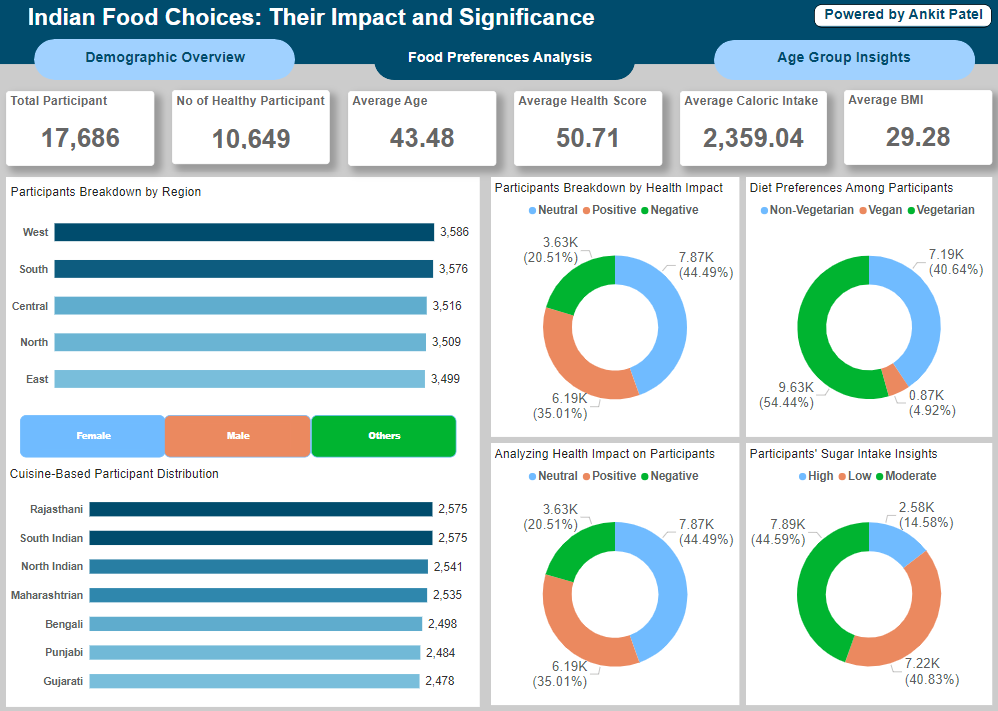

The page's visual inventory and layout, read from the dashboard file:
{"tool":"powerbi","page":{"name":"Food Preferences Analysis","canvas":[1400,1000],"ordinal":1},"visuals":[{"type":"shape","box":[12.2,248.6,658.1,736.5],"z":0},{"type":"shape","box":[0,0,1400,91.7],"z":1000},{"type":"actionButton","title":"Indian Food Choices: Their Impact and Significance","box":[0,8.7,873,48],"z":2000},{"type":"shape","box":[51.6,56.8,362.6,56.8],"z":3000},{"type":"actionButton","title":"Demographic Overview","box":[109.7,71,247.7,27.1],"z":4000},{"type":"card","title":"Total Participant ","fields":{"Values":["Meausres Table.Total People"]},"box":[13.1,128.8,206.2,103.7],"z":5000},{"type":"card","title":"Average Age","fields":{"Values":["Meausres Table.Average Age"]},"box":[487.4,128.8,206.2,103.7],"z":6000},{"type":"card","title":"No of Healthy Participant ","fields":{"Values":["Meausres Table.Total Healthy Participant"]},"box":[243.3,128.4,219.4,103],"z":7000},{"type":"card","title":"Average Health Score","fields":{"Values":["Meausres Table.Average Health Score"]},"box":[718,128.8,206.2,103.7],"z":8000},{"type":"card","title":"Average BMI","fields":{"Values":["Meausres Table.Average BMI"]},"box":[1177,128.4,206,104.4],"z":9000},{"type":"card","title":"Average Caloric Intake","fields":{"Values":["Meausres Table.Average Caloric Intake"]},"box":[948.6,128.8,204.1,103.7],"z":10000},{"type":"barChart","title":"Participants Breakdown by Region","fields":{"Category":["food_impact_india.Region"],"Y":["Meausres Table.Total People"]},"box":[13.5,255.4,647.3,313.5],"z":11000},{"type":"barChart","title":"Cuisine-Based Participant Distribution","fields":{"Category":["food_impact_india.Primary_Cuisine"],"Y":["Meausres Table.Total People"]},"box":[13.1,647.9,647.9,333.8],"z":12000},{"type":"slicer","fields":{"Values":["food_impact_india.Gender"]},"box":[31.4,579.8,201.6,58.9],"z":13000},{"type":"slicer","fields":{"Values":["food_impact_india.Gender"]},"box":[231.7,579.8,204.2,58.9],"z":14000},{"type":"slicer","fields":{"Values":["food_impact_india.Gender"]},"box":[435.9,579.8,201.6,58.9],"z":15000},{"type":"donutChart","title":"Participants Breakdown by Health Impact","fields":{"Category":["food_impact_india.Health_Impact"],"Y":["Meausres Table.Total People"]},"box":[686.5,248.6,344.6,360.8],"z":16000},{"type":"donutChart","title":"Participants'' Sugar Intake Insights","fields":{"Category":["food_impact_india.Sugar_Intake"],"Y":["Meausres Table.Total People"]},"box":[1040.5,617.6,341.9,363.5],"z":16001},{"type":"donutChart","title":"Analyzing Health Impact on Participants","fields":{"Category":["food_impact_india.Health_Impact"],"Y":["Meausres Table.Total People"]},"box":[686.5,617.6,344.6,363.5],"z":16002},{"type":"donutChart","title":"Diet Preferences Among Participants","fields":{"Category":["food_impact_india.Diet_Type"],"Y":["Meausres Table.Total People"]},"box":[1040.5,248.6,341.9,360.8],"z":16003},{"type":"shape","box":[523.5,58.6,362.9,55.7],"z":16004},{"type":"shape","box":[995.7,58.6,362.9,55.7],"z":16005},{"type":"actionButton","title":"Food Preferences Analysis","box":[568.6,71.4,261.4,27.1],"z":16006},{"type":"actionButton","title":"Age Group Insights","box":[1045.7,71.4,261.4,27.1],"z":16007},{"type":"actionButton","title":"Powered by Ankit Patel","box":[1134.3,8.6,247.1,32.9],"z":16008}]}

Visuals, with their boxes in screenshot pixels (x1, y1, x2, y2), scaled from the page's 1400x1000 canvas onto the 998x711 screenshot:
shape: bbox=(9, 177, 478, 700)
shape: bbox=(0, 0, 997, 65)
"Indian Food Choices: Their Impact and Significance" actionButton: bbox=(0, 6, 622, 40)
shape: bbox=(37, 40, 295, 81)
"Demographic Overview" actionButton: bbox=(78, 50, 255, 70)
"Total Participant " card: bbox=(9, 92, 156, 165)
"Average Age" card: bbox=(347, 92, 494, 165)
"No of Healthy Participant " card: bbox=(173, 91, 330, 165)
"Average Health Score" card: bbox=(512, 92, 659, 165)
"Average BMI" card: bbox=(839, 91, 986, 166)
"Average Caloric Intake" card: bbox=(676, 92, 822, 165)
"Participants Breakdown by Region" barChart: bbox=(10, 182, 471, 404)
"Cuisine-Based Participant Distribution" barChart: bbox=(9, 461, 471, 698)
slicer - food_impact_india.Gender: bbox=(22, 412, 166, 454)
slicer - food_impact_india.Gender: bbox=(165, 412, 311, 454)
slicer - food_impact_india.Gender: bbox=(311, 412, 454, 454)
"Participants Breakdown by Health Impact" donutChart: bbox=(489, 177, 735, 433)
"Participants'' Sugar Intake Insights" donutChart: bbox=(742, 439, 985, 698)
"Analyzing Health Impact on Participants" donutChart: bbox=(489, 439, 735, 698)
"Diet Preferences Among Participants" donutChart: bbox=(742, 177, 985, 433)
shape: bbox=(373, 42, 632, 81)
shape: bbox=(710, 42, 968, 81)
"Food Preferences Analysis" actionButton: bbox=(405, 51, 592, 70)
"Age Group Insights" actionButton: bbox=(745, 51, 932, 70)
"Powered by Ankit Patel" actionButton: bbox=(809, 6, 985, 30)
